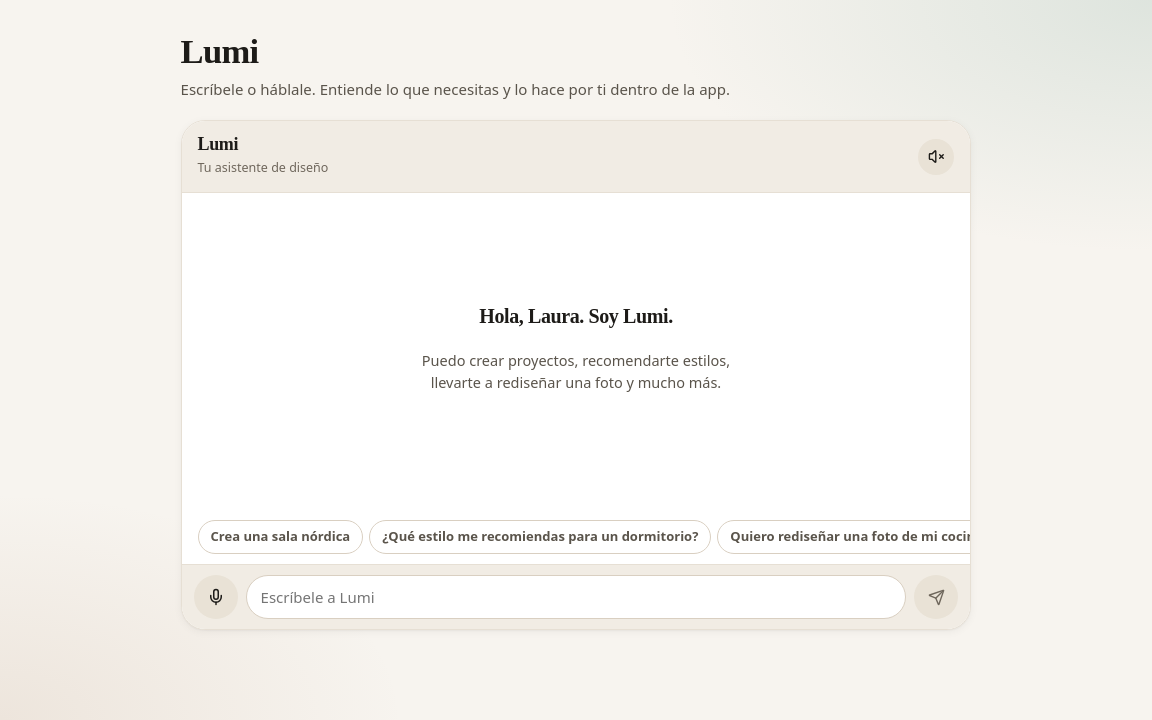
Test: Lumi assistant page › sends a suggestion with one tap and runs the action Lumi returns
What coordinates should you click on to do the following:
click the button "Crea una sala nórdica"
I would click on:
 (280, 537)
Its box is [198, 520, 363, 554].
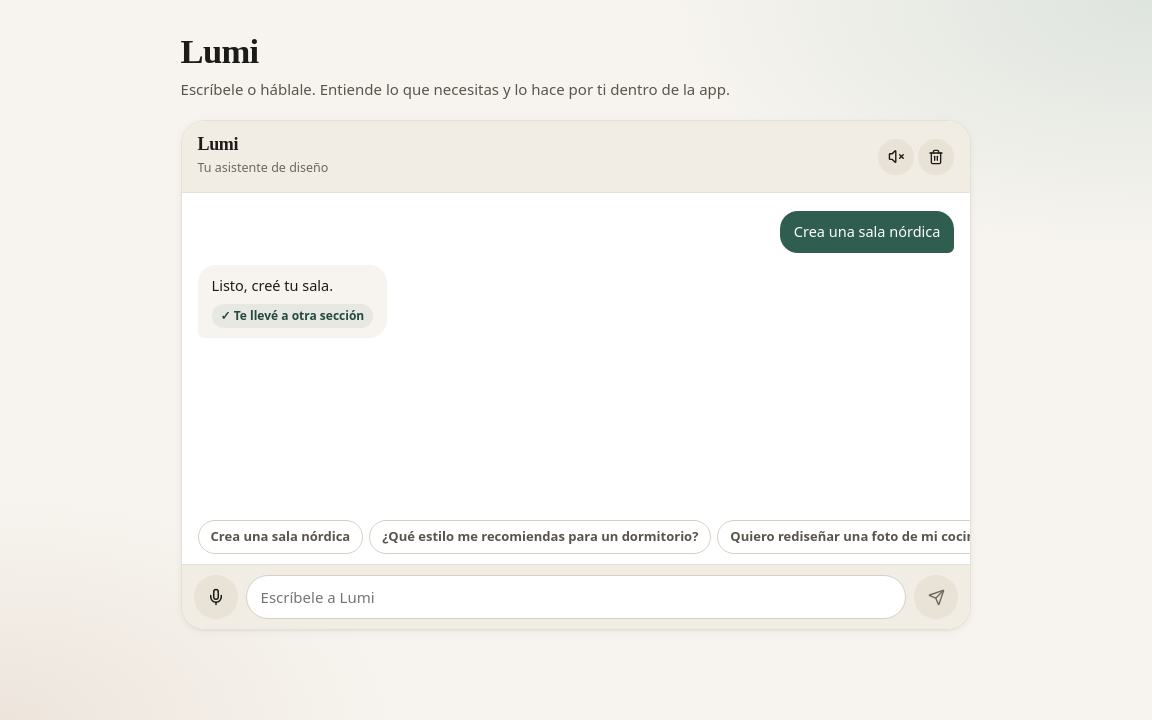
Expected: the text "Listo, creé tu sala." is shown, [212, 274, 333, 294]
Expected: the text "✓ Te llevé a otra sección" is shown, [212, 304, 373, 328]
